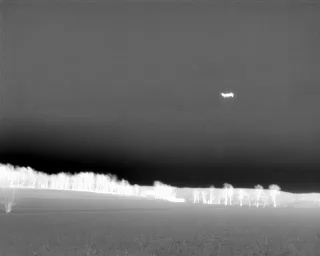DRONE: (217, 87, 239, 103)
